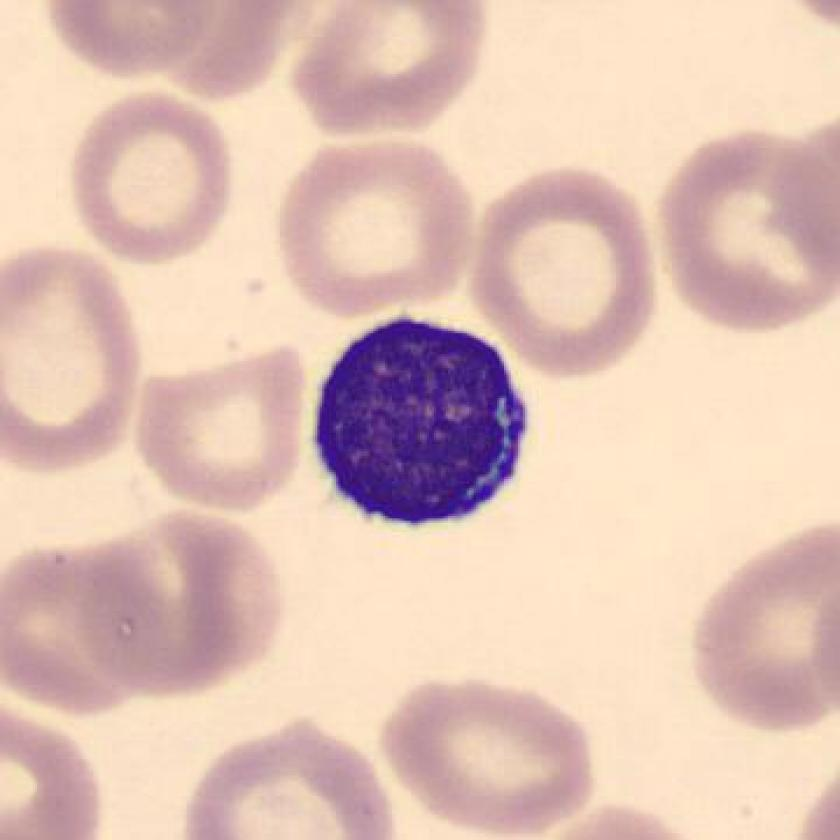lymphocyte: (305, 300, 543, 547)
